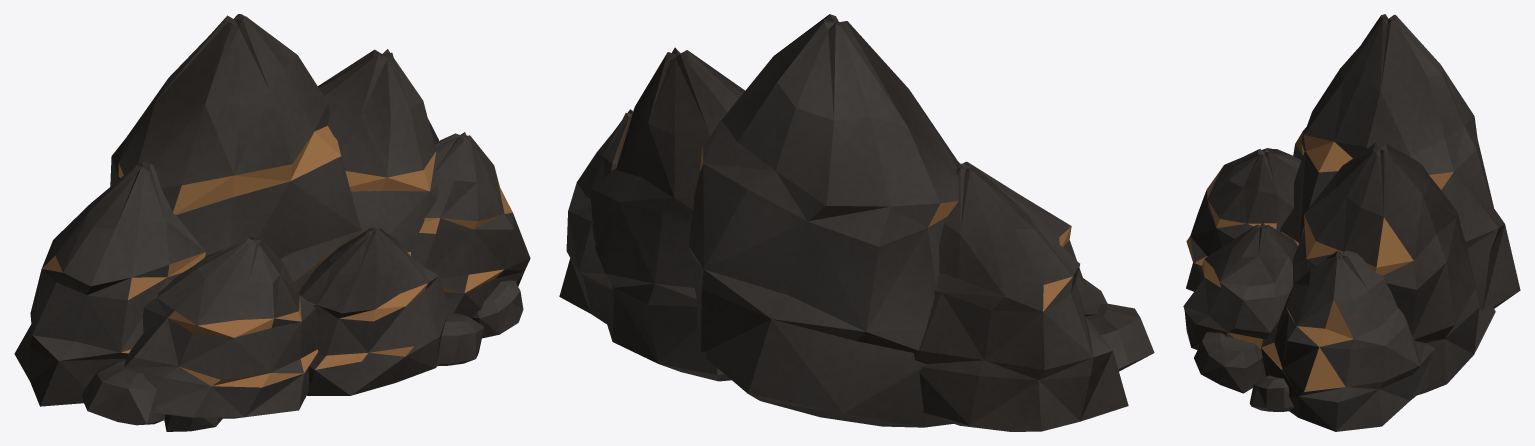
Rendered from HeavyDepositA.fbx.
The picture shows the model from 3 angles, left to right: view 1: azimuth 30°, elevation 25°; view 2: azimuth 150°, elevation 25°; view 3: azimuth 270°, elevation 25°; orthographic projection. The views are drawn at different scales.
Visible parts, largest first — view 1: DenseMineral_Deposit_A_LOD0; view 2: DenseMineral_Deposit_A_LOD0; view 3: DenseMineral_Deposit_A_LOD0.
Part boxes in pixels (x1,y1,x2,y2): DenseMineral_Deposit_A_LOD0: (14, 14, 530, 431); DenseMineral_Deposit_A_LOD0: (559, 14, 1154, 431); DenseMineral_Deposit_A_LOD0: (1183, 14, 1520, 431).
Size of what is drawn, in the model's own units: 392 by 256 by 247.
